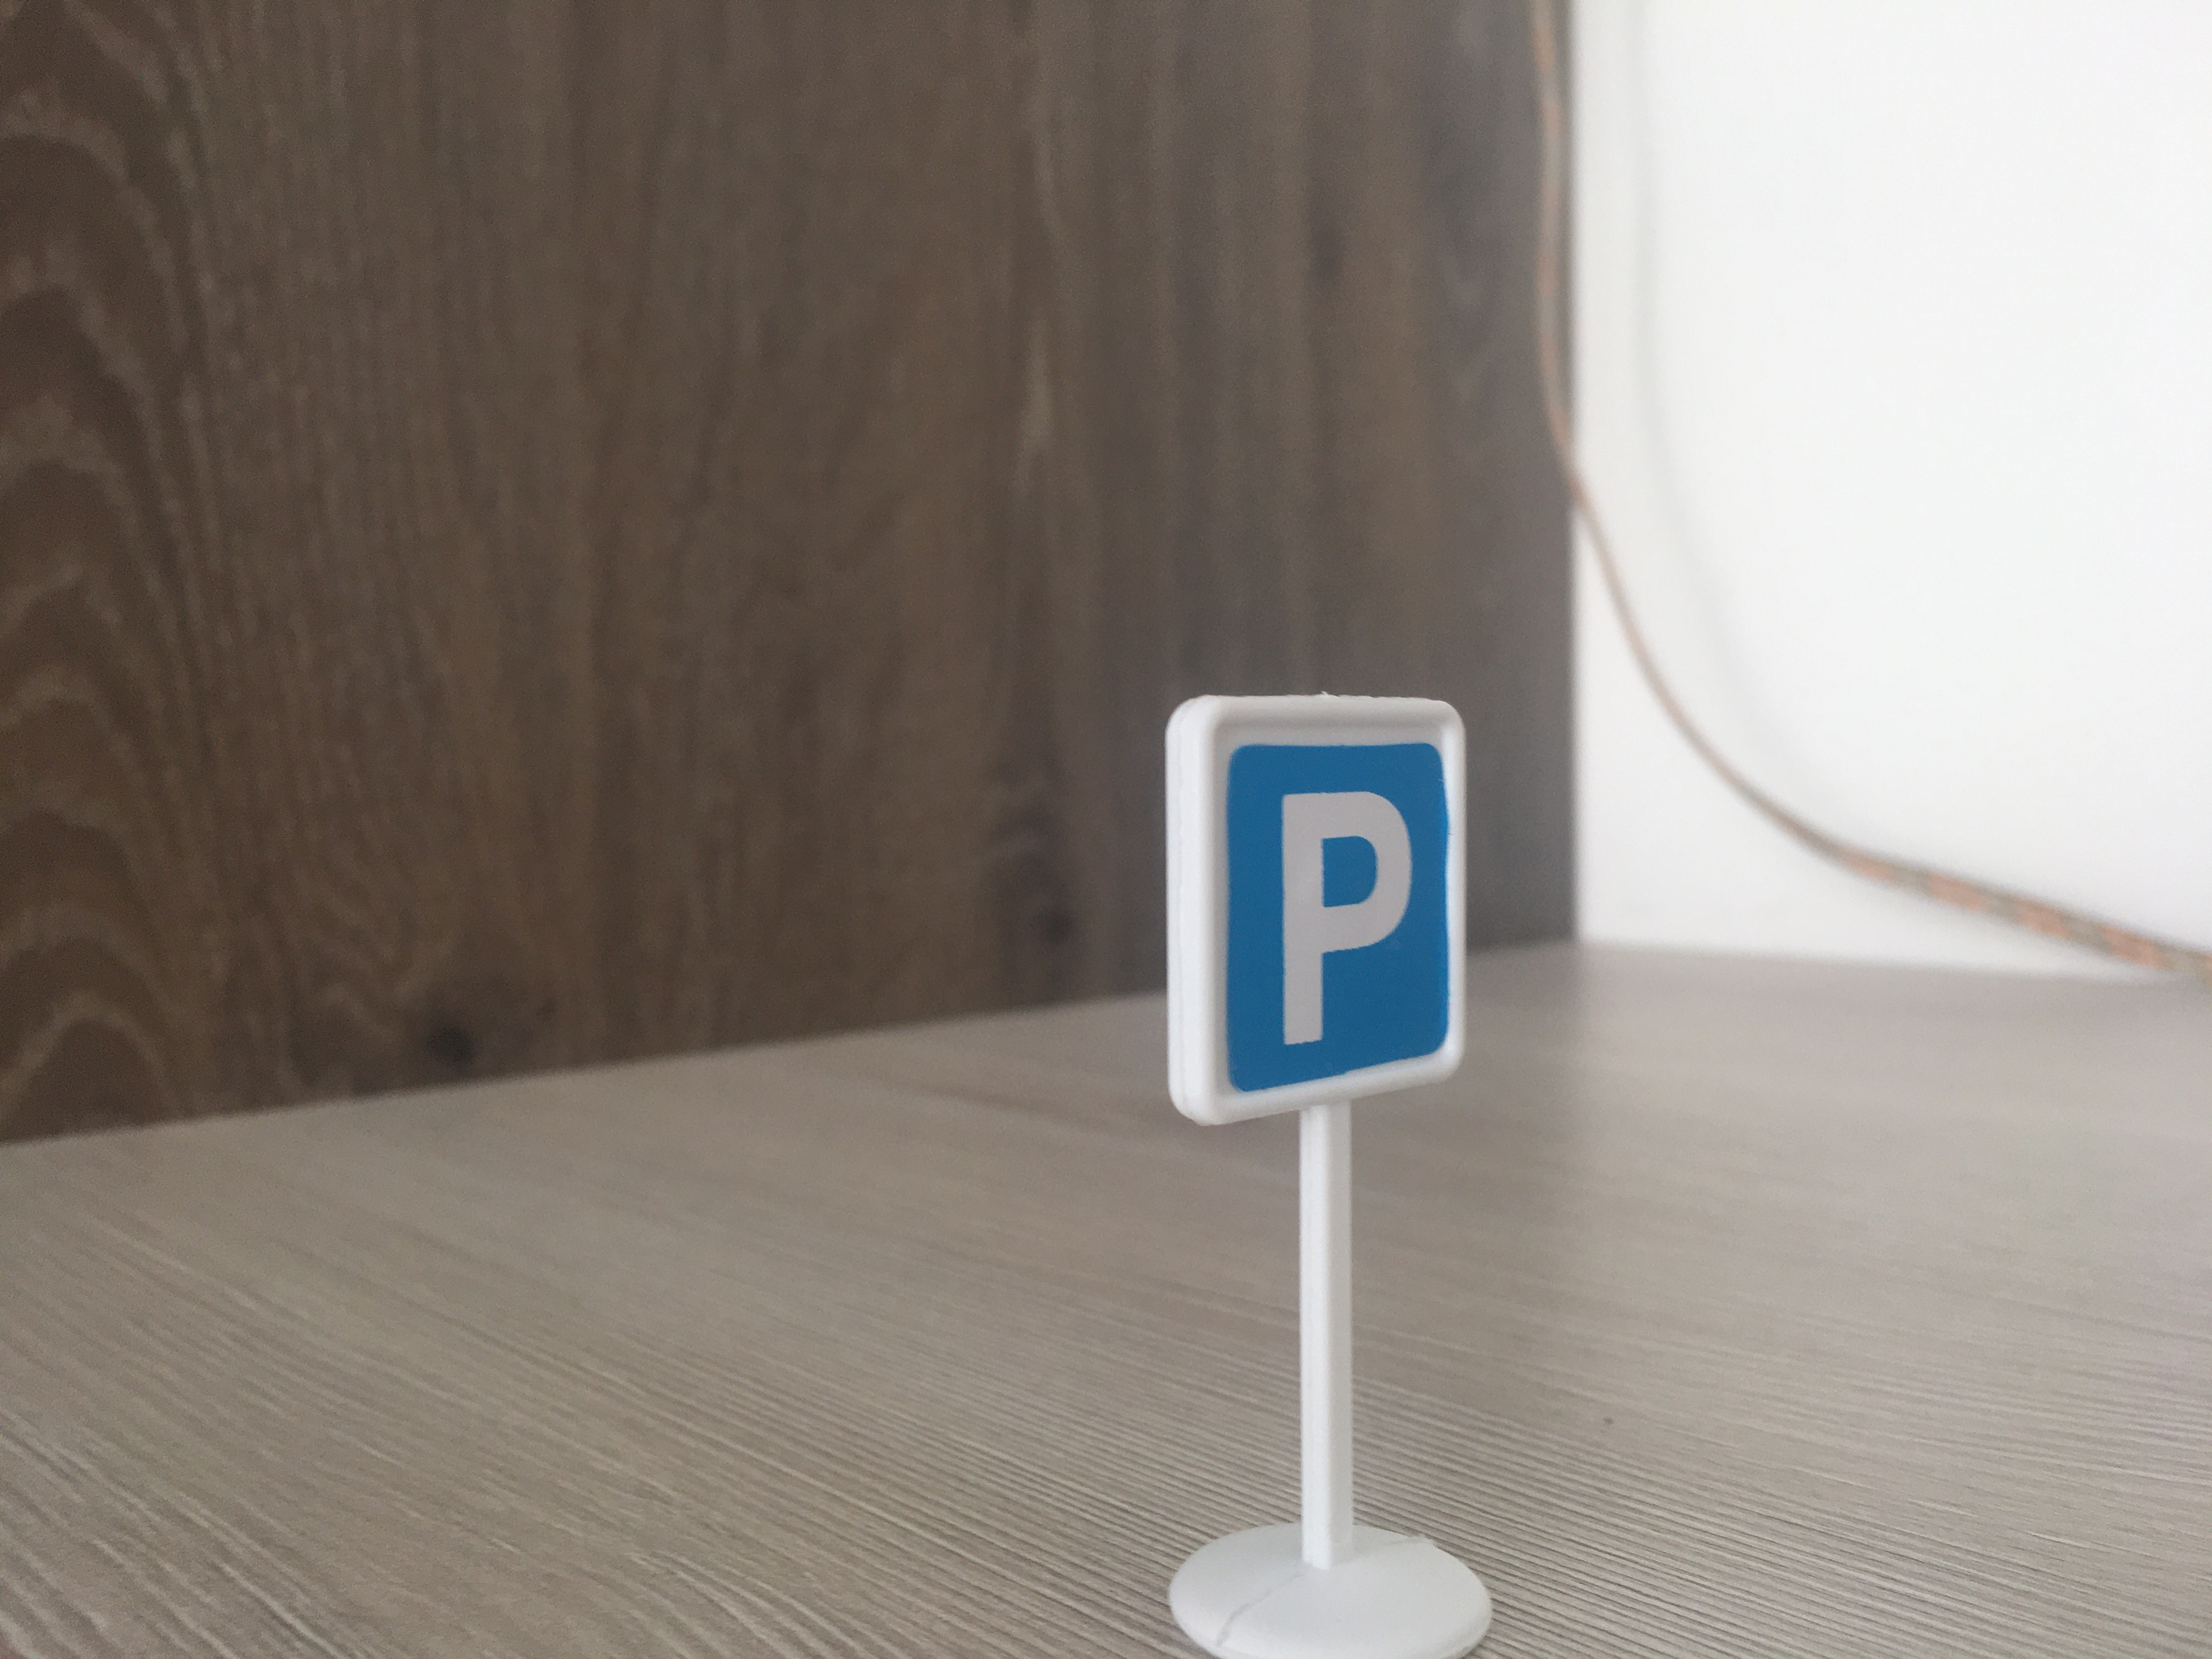parking: (1160, 690, 1470, 1127)
